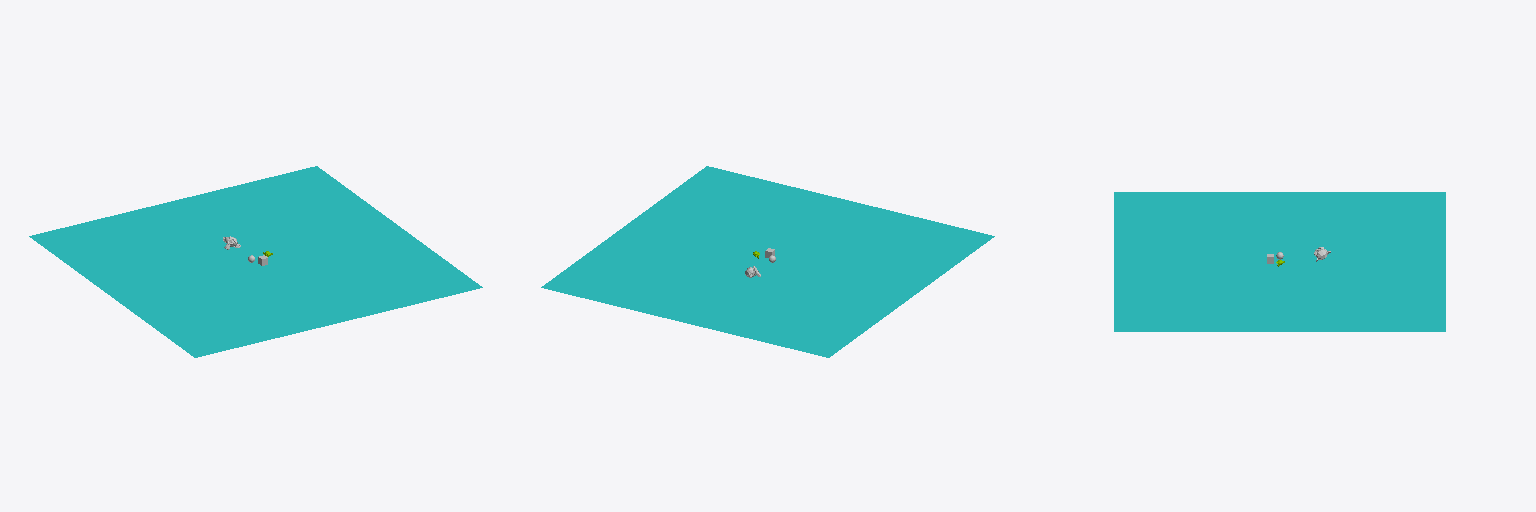
The model's file is scena_full.obj.
3 views of the same model, side by side, from view 1: azimuth 30°, elevation 25°; view 2: azimuth 150°, elevation 25°; view 3: azimuth 270°, elevation 25° (orthographic).
Parts seen in each view (by area): view 1: podloga; view 2: podloga; view 3: podloga.
Boxes of the visible parts, x1=… form: podloga: x1=29, y1=166, x2=482, y2=357; podloga: x1=541, y1=166, x2=994, y2=357; podloga: x1=1114, y1=192, x2=1445, y2=331.
Size of the model in its own units: 89.36 by 3.56 by 89.36.